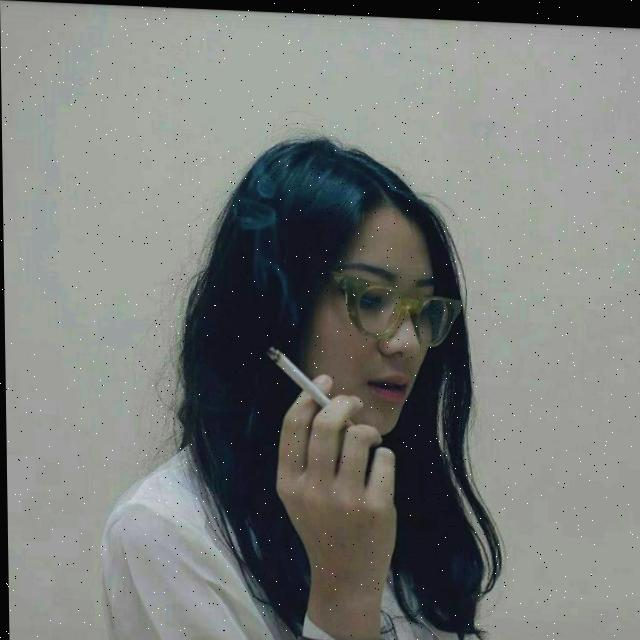cigarette: (264, 343, 354, 426)
